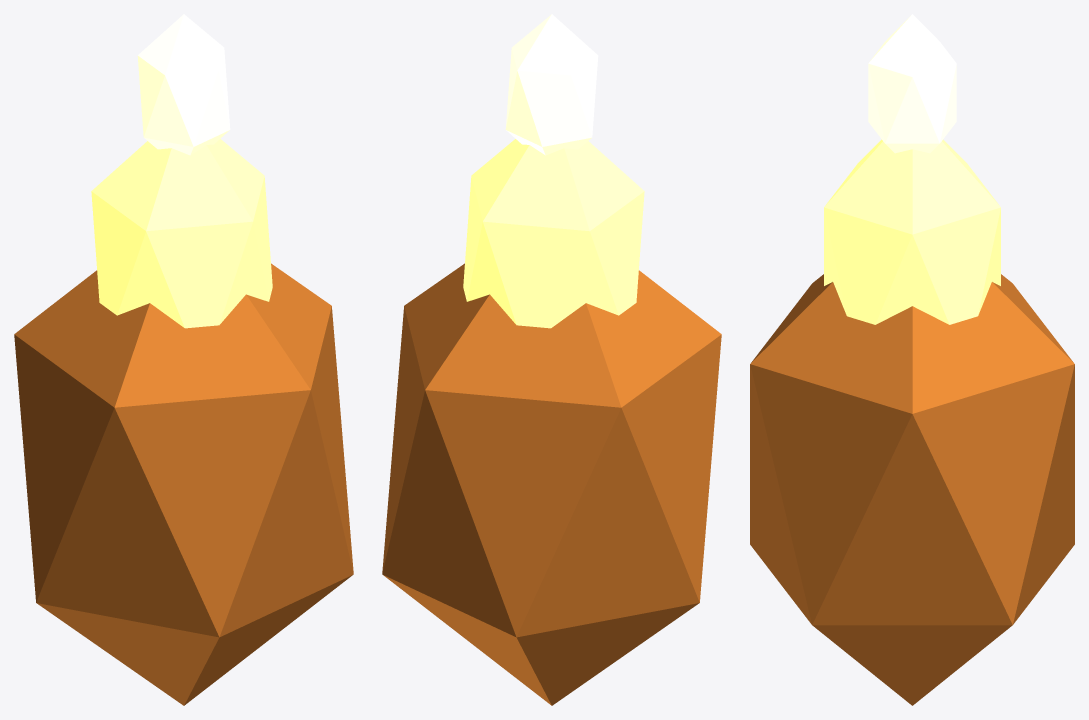
Rendered from flame.glb.
3 renders of one model, left to right at view 1: azimuth 30°, elevation 25°; view 2: azimuth 150°, elevation 25°; view 3: azimuth 270°, elevation 25°, orthographic.
Visible parts, largest first — view 1: flame; view 2: flame; view 3: flame.
Part boxes in pixels (x1=…): flame: x1=14, y1=14, x2=353, y2=705; flame: x1=382, y1=14, x2=721, y2=705; flame: x1=750, y1=14, x2=1074, y2=705.
Bounding box in the file's own units: 0.0394 × 0.088 × 0.0374.
